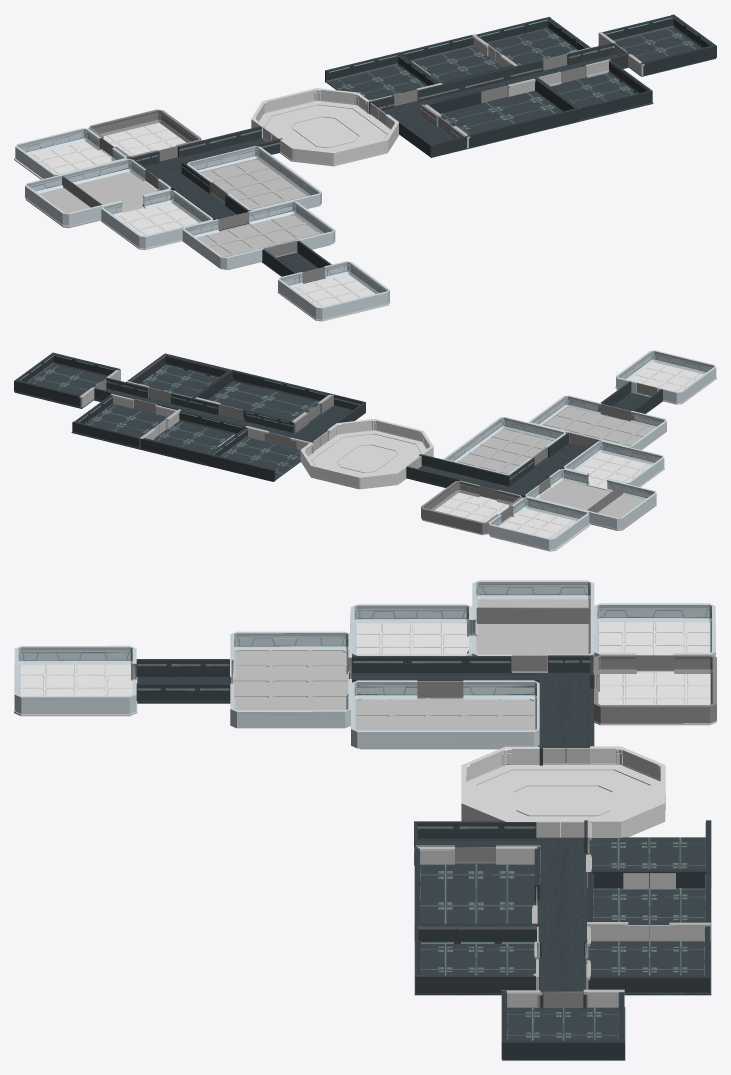
Rendered from Level_02_Full.FBX.
The picture shows the model from 3 angles, top to bottom: view 1: azimuth 30°, elevation 25°; view 2: azimuth 150°, elevation 25°; view 3: azimuth 270°, elevation 25°; orthographic projection. The views are drawn at different scales.
Parts seen in each view (by area): view 1: Box134, Labor_008, Box149, Labor_Boden_011, Labor_Boden_012, Labor_009, Box157, Labor_Boden_006, Labor_006, Labor_005, Labor_007, Flur_Boden_005 (+26 smaller); view 2: Box134, Labor_Boden_011, Box149, Labor_004, Labor_Boden_012, Box157, Labor_006, Labor_009, Labor_Boden_006, Labor_Wand_004, Flur_Boden_005, Box135 (+29 smaller); view 3: Box134, Flur_Boden_004, Labor_Boden_012, Box149, Labor_007, Labor_Boden_011, Labor_008, Flur_Boden_005, Labor_006, Box152, Labor_Boden_006, Box138 (+28 smaller).
Part boxes in pixels (left/top/right/bottom): Box134: left=259, top=100, right=399, bottom=166; Labor_008: left=182, top=201, right=335, bottom=269; Box149: left=440, top=90, right=578, bottom=149; Labor_Boden_011: left=200, top=158, right=307, bottom=209; Labor_Boden_012: left=197, top=214, right=330, bottom=269; Labor_009: left=25, top=158, right=171, bottom=225; Box157: left=598, top=14, right=716, bottom=76; Labor_Boden_006: left=25, top=172, right=156, bottom=227; Labor_006: left=278, top=261, right=389, bottom=319; Labor_005: left=101, top=190, right=213, bottom=248; Labor_007: left=187, top=146, right=321, bottom=210; Flur_Boden_005: left=145, top=138, right=279, bottom=230; Box134: left=301, top=430, right=426, bottom=489; Labor_Boden_011: left=457, top=428, right=553, bottom=474; Box149: left=207, top=381, right=318, bottom=420; Labor_004: left=488, top=497, right=589, bottom=549; Labor_Boden_012: left=542, top=407, right=654, bottom=445; Box157: left=14, top=352, right=120, bottom=407; Labor_006: left=616, top=350, right=716, bottom=403; Labor_009: left=525, top=468, right=656, bottom=529; Labor_Boden_006: left=538, top=480, right=656, bottom=530; Labor_Wand_004: left=421, top=480, right=522, bottom=533; Flur_Boden_005: left=406, top=442, right=586, bottom=494; Box135: left=206, top=437, right=300, bottom=481; Box134: left=461, top=763, right=665, bottom=837; Flur_Boden_004: left=417, top=837, right=588, bottom=991; Labor_Boden_012: left=231, top=650, right=349, bottom=710; Box149: left=419, top=863, right=537, bottom=923; Labor_007: left=351, top=680, right=539, bottom=748; Labor_Boden_011: left=356, top=697, right=535, bottom=749; Labor_008: left=230, top=631, right=351, bottom=728; Flur_Boden_005: left=349, top=672, right=594, bottom=762; Labor_006: left=14, top=645, right=136, bottom=713; Box152: left=415, top=925, right=539, bottom=993; Labor_Boden_006: left=476, top=599, right=588, bottom=672; Box138: left=588, top=941, right=711, bottom=995.
Bounding box in the file's own units: 178 × 3.71 × 114.
